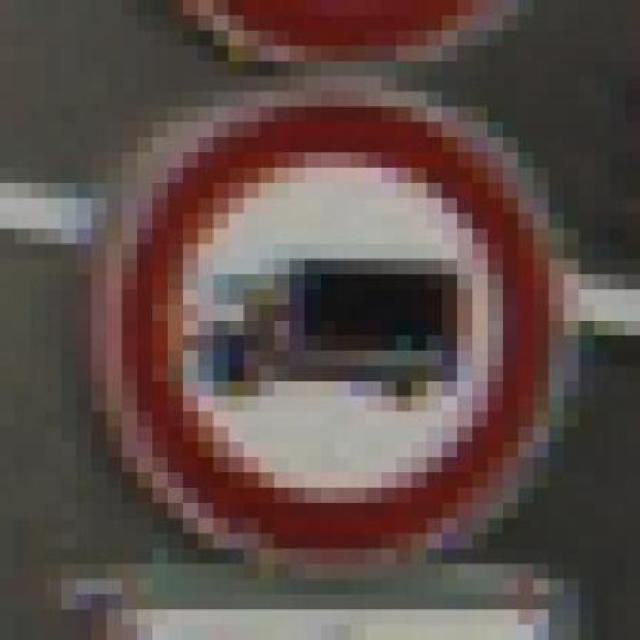Truck traffic is prohibited: (88, 60, 606, 562)
